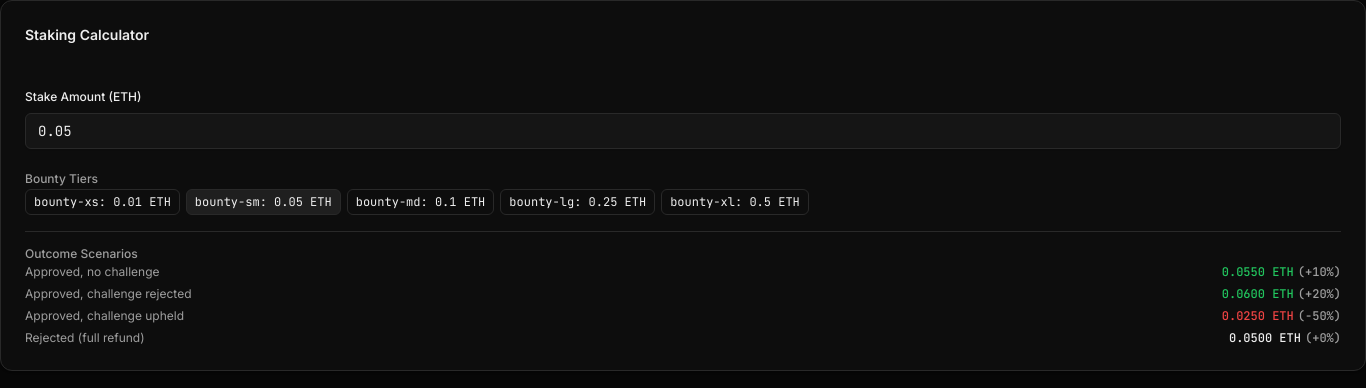
Scenario: StakingCalculator › updates scenarios when stake amount is changed via input
The image size is (1366, 388).
Replace the text in the number field labelled "Stake Amount (ETH)" with "1": (683, 131) [25,113,1341,149]
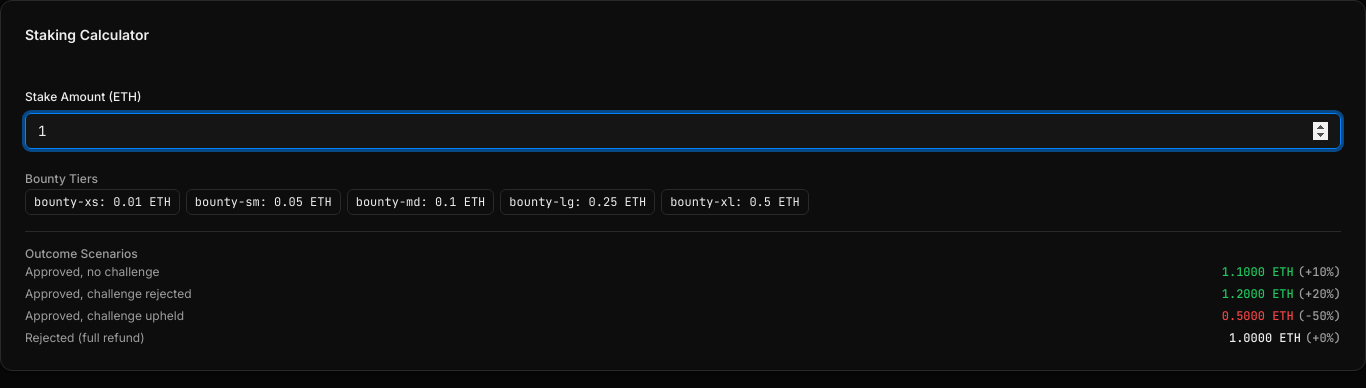
Now the text "1.1000 ETH(+10%)" is shown, box [1222,264,1341,280]
Now the text "1.2000 ETH(+20%)" is shown, box [1222,286,1341,302]
